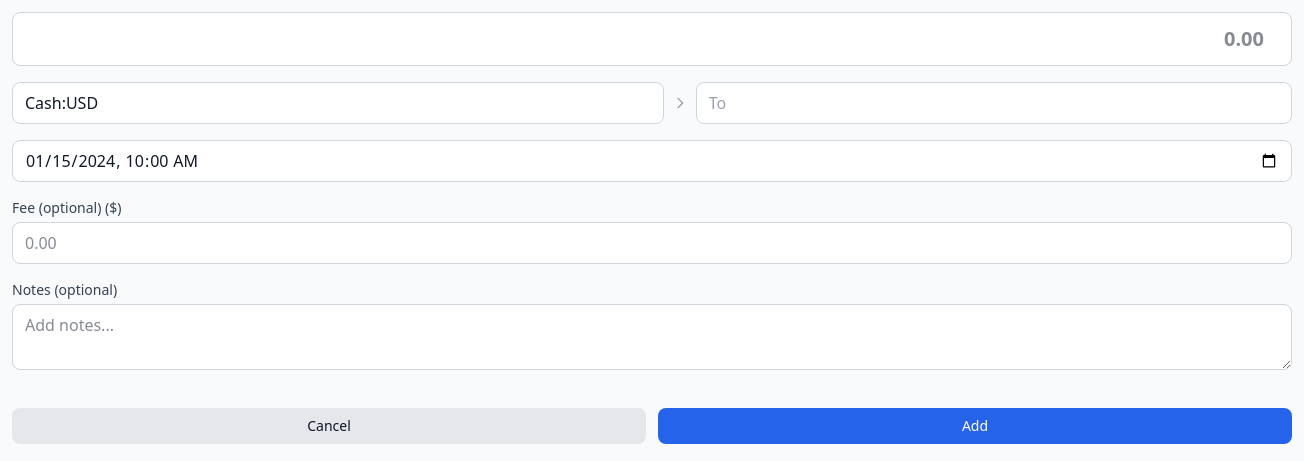
Test case: TransferTransactionForm › clears feeTagId when fee set to zero
Type "5" into the number field labelled "Fee (optional) ($)". click: (652,243)
box: x1=12 y1=222 x2=1292 y2=264
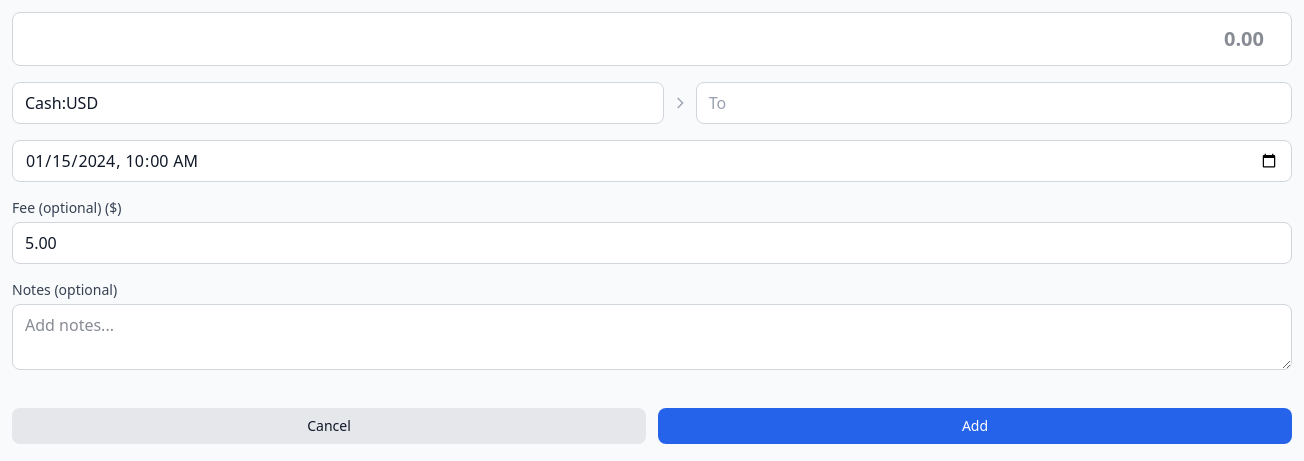
Replace the text in the field labelled "Fee (optional) ($)" with "0". click: (652,243)
box: x1=12 y1=222 x2=1292 y2=264
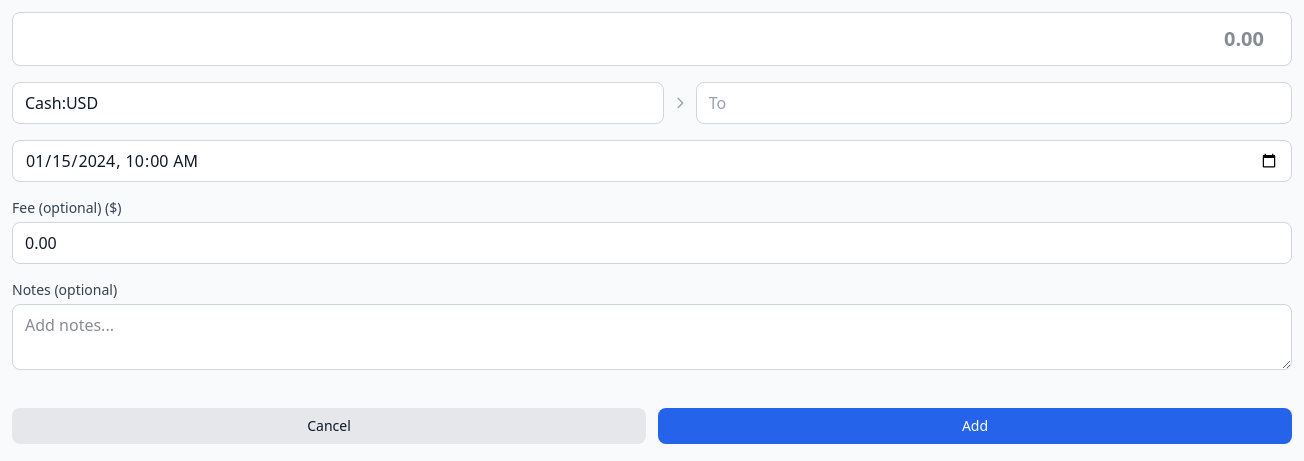
Now the field labelled "Fee (optional) ($)" holds "0.00", box x1=12 y1=222 x2=1292 y2=264
